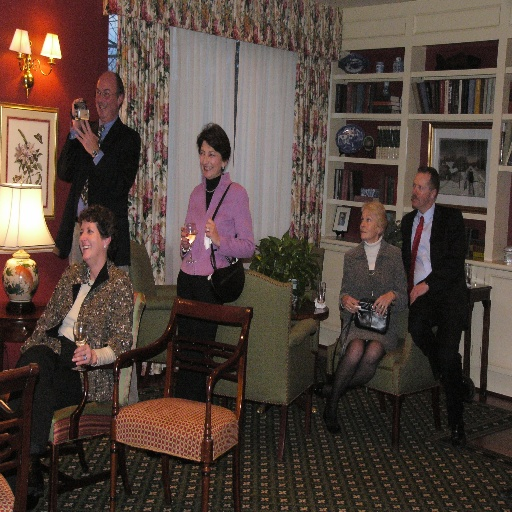hand: (58, 99, 96, 158), (370, 292, 394, 318), (179, 225, 199, 252), (69, 344, 92, 367), (70, 98, 86, 130), (202, 217, 219, 245), (409, 282, 429, 305), (341, 293, 360, 316)
